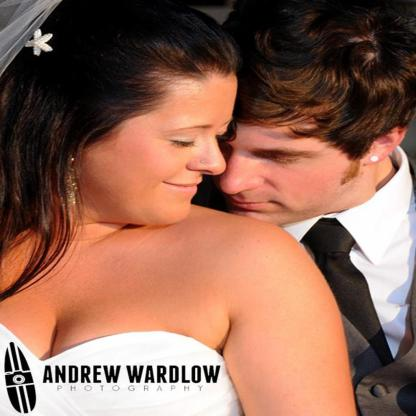face: (210, 65, 361, 226), (89, 71, 238, 227)
